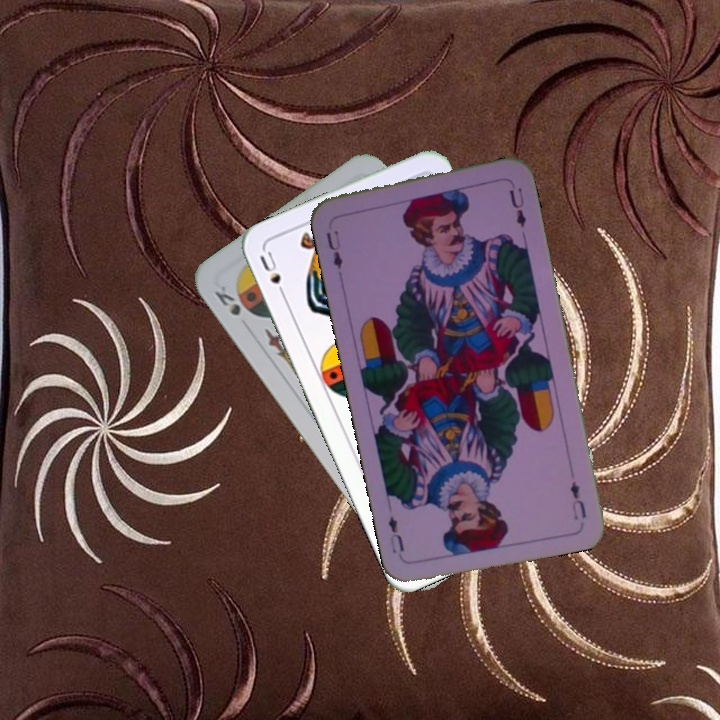EU: (322, 226, 345, 272), (566, 477, 589, 522)
SK: (210, 281, 244, 319)
SU: (255, 247, 290, 303)
